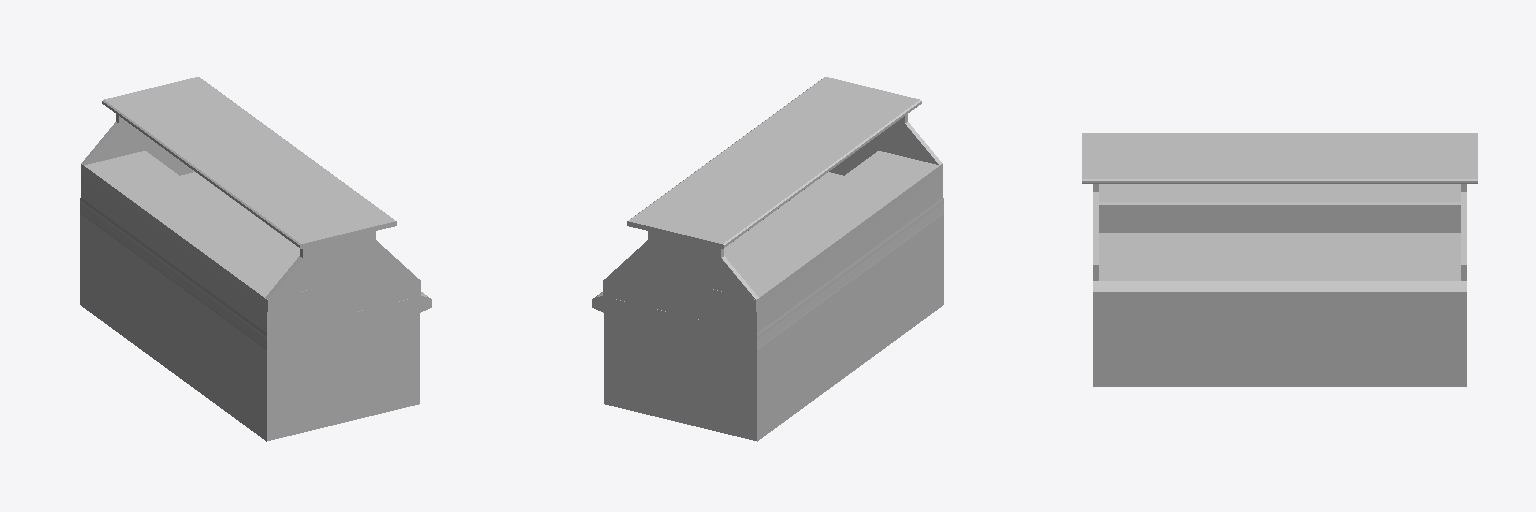
Rendered from mostrador carne y fiambre.obj.
3 views of the same model, side by side, from view 1: azimuth 30°, elevation 25°; view 2: azimuth 150°, elevation 25°; view 3: azimuth 270°, elevation 25° (orthographic).
Visible parts, largest first — view 1: Base, Mostrador, CostadoL, CostadoR; view 2: Base, Mostrador, CostadoR, CostadoL; view 3: Base, Mostrador, CostadoR, CostadoL.
Boxes of the visible parts, <box> form: Base: <box>80,151,431,441</box>; Mostrador: <box>102,77,396,248</box>; CostadoL: <box>265,231,420,319</box>; CostadoR: <box>82,114,194,175</box>; Base: <box>592,151,943,441</box>; Mostrador: <box>627,77,921,248</box>; CostadoR: <box>603,231,758,319</box>; CostadoL: <box>829,114,941,175</box>; Base: <box>1093,184,1466,386</box>; Mostrador: <box>1082,133,1477,183</box>; CostadoR: <box>1461,184,1466,280</box>; CostadoL: <box>1093,184,1098,280</box>.
Bounding box in the file's own units: 3.87 × 4.34 × 8.01.